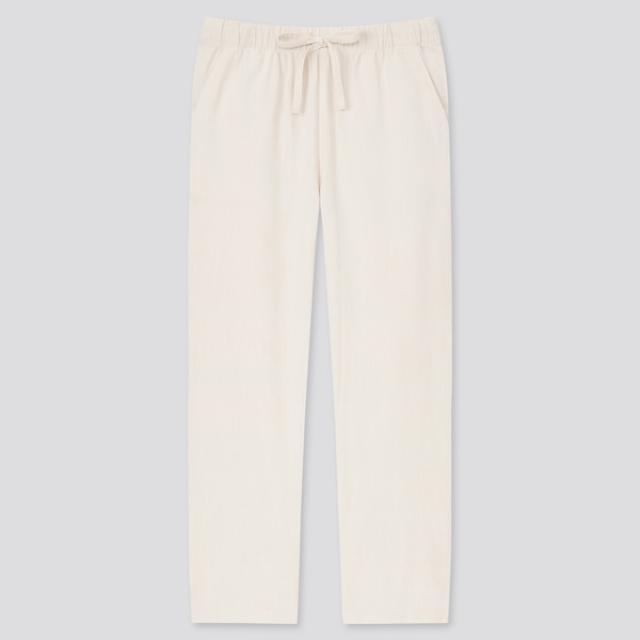long-pants: (189, 17, 457, 629)
